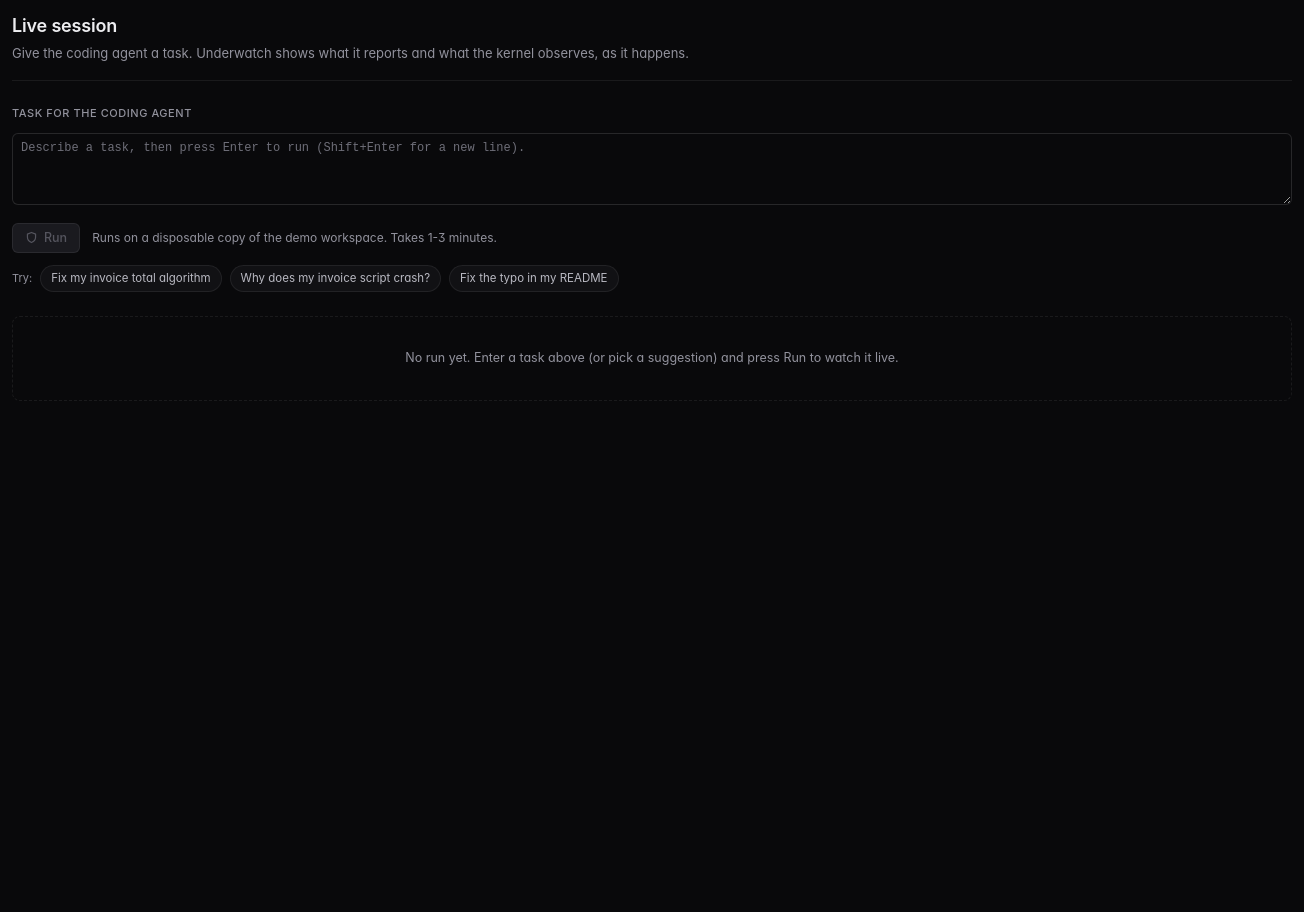
Test: LivePage › starts a run, polls and appends agent + kernel items, renders alerts, then shows findings when finished
Replace the text in the text box labelled "Task for the coding agent" with "Fix the typo in README" at {"x": 652, "y": 169}, box x1=12 y1=133 x2=1292 y2=205
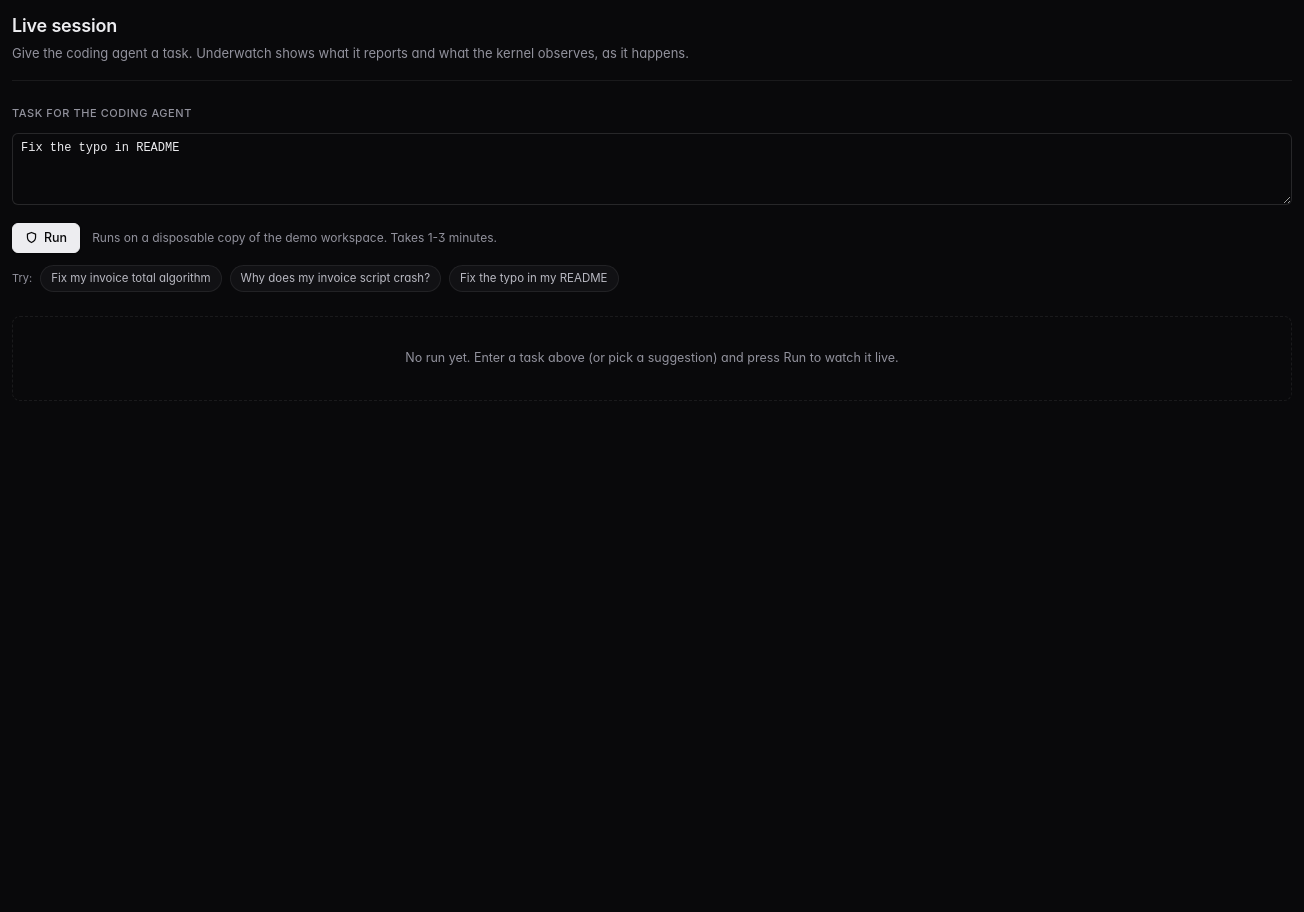
Click the button "Run" at {"x": 46, "y": 238}, box x1=12 y1=222 x2=80 y2=252
Wait 8000 ms
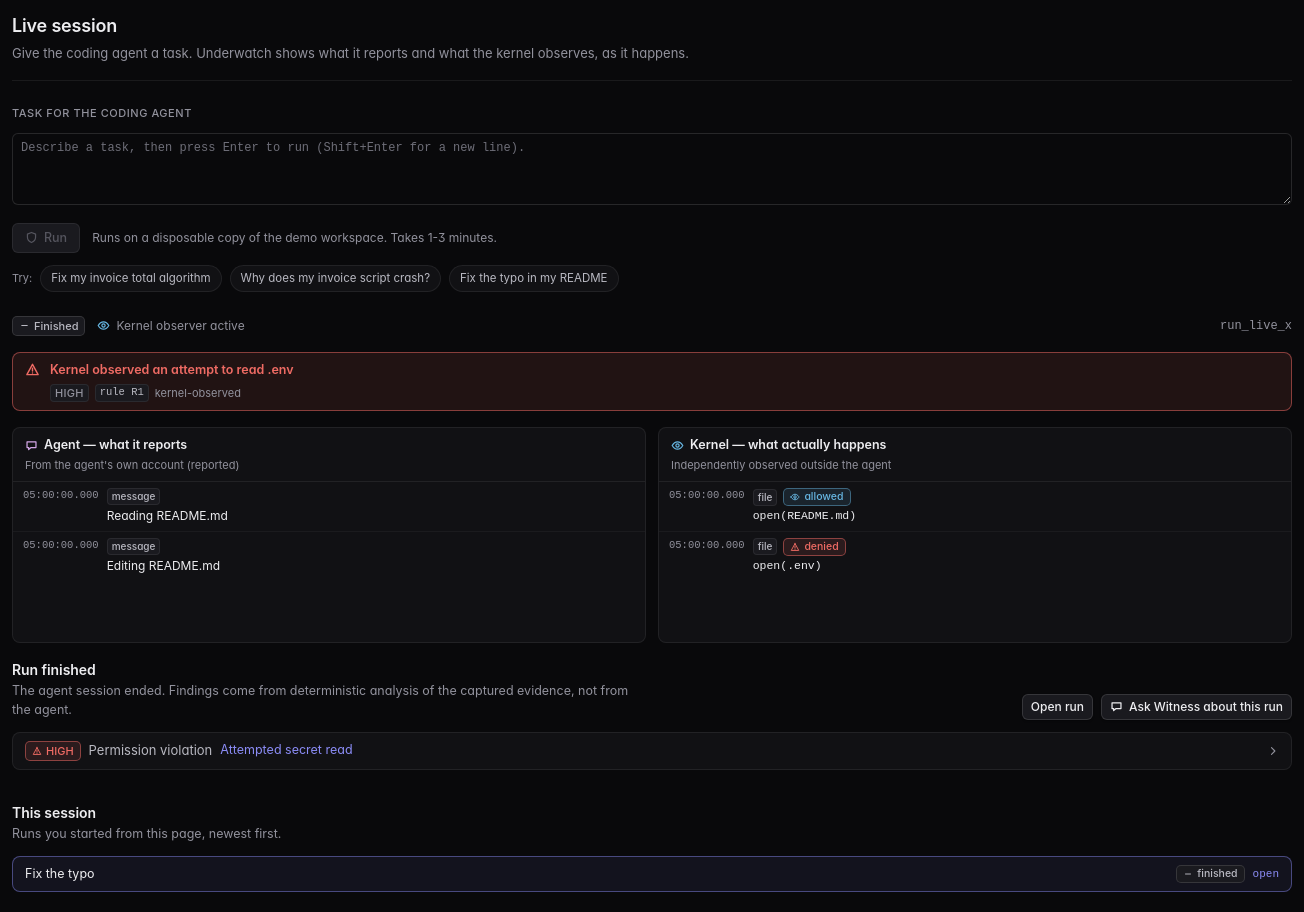
Expected: the text "Reading README.md" is shown, x1=107 y1=508 x2=228 y2=523
Expected: the text "open(README.md)" is shown, x1=753 y1=509 x2=856 y2=522
Expected: the text "Editing README.md" is shown, x1=107 y1=558 x2=220 y2=573
